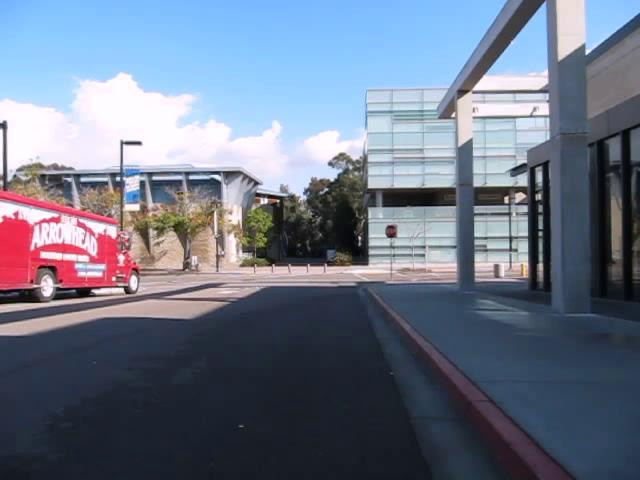stop: (384, 223, 398, 239)
